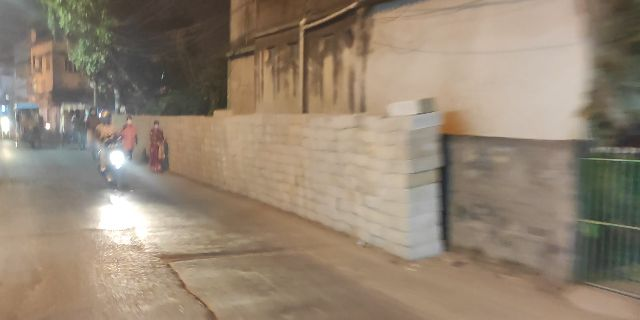Motorbike: (87, 105, 131, 194)
